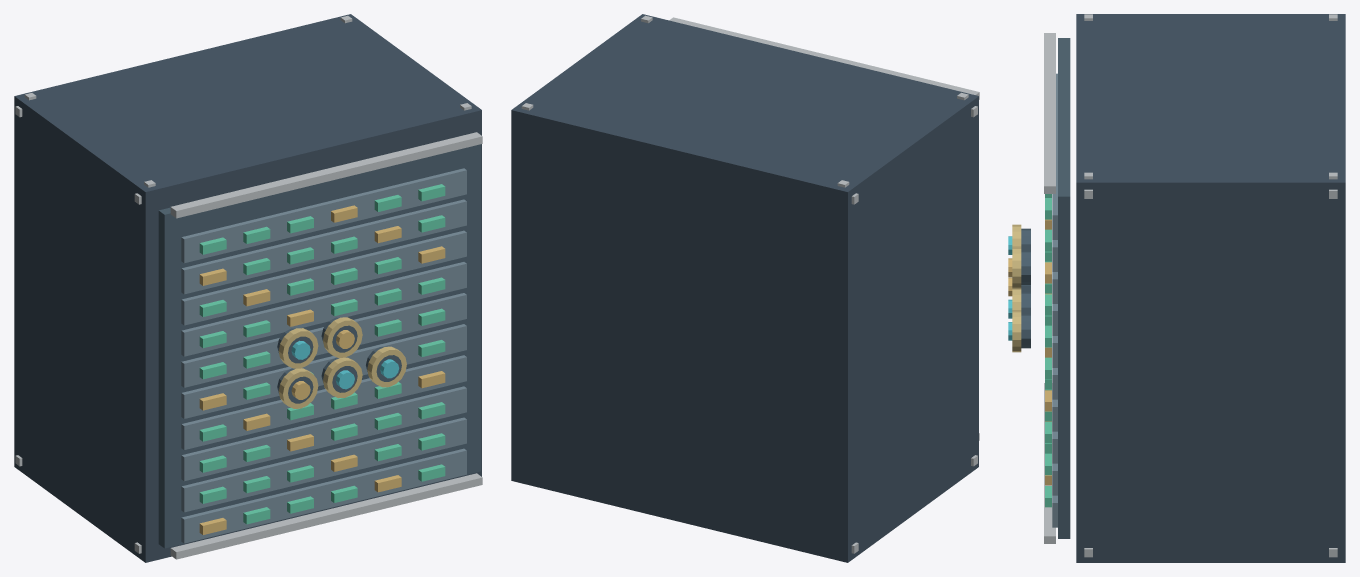
File: 58_L81_Regulated5VControlSupply.glb
3 renders of one model, left to right at view 1: azimuth 30°, elevation 25°; view 2: azimuth 150°, elevation 25°; view 3: azimuth 270°, elevation 25°, orthographic. The views are drawn at different scales.
Parts seen in each view (by area): view 1: Regulated5VControlSupply_Node_0000, Regulated5VControlSupply_Node_0009, Regulated5VControlSupply_Node_0017, Regulated5VControlSupply_Node_0066, Regulated5VControlSupply_Node_0073, Regulated5VControlSupply_Node_0010, Regulated5VControlSupply_Node_0059, Regulated5VControlSupply_Node_0024, Regulated5VControlSupply_Node_0052, Regulated5VControlSupply_Node_0031, Regulated5VControlSupply_Node_0045, Regulated5VControlSupply_Node_0038 (+7 smaller); view 2: Regulated5VControlSupply_Node_0000, Regulated5VControlSupply_Node_0081; view 3: Regulated5VControlSupply_Node_0000, Regulated5VControlSupply_Node_0009, Regulated5VControlSupply_Node_0081, Regulated5VControlSupply_Node_0080, Regulated5VControlSupply_Node_0073, Regulated5VControlSupply_Node_0097.
Boxes of the visible parts, <box> form: Regulated5VControlSupply_Node_0000: <box>14,14,481,562</box>; Regulated5VControlSupply_Node_0009: <box>158,144,480,548</box>; Regulated5VControlSupply_Node_0017: <box>181,417,466,512</box>; Regulated5VControlSupply_Node_0066: <box>181,199,466,294</box>; Regulated5VControlSupply_Node_0073: <box>181,168,466,263</box>; Regulated5VControlSupply_Node_0010: <box>181,448,466,543</box>; Regulated5VControlSupply_Node_0059: <box>181,230,466,325</box>; Regulated5VControlSupply_Node_0024: <box>181,386,466,481</box>; Regulated5VControlSupply_Node_0052: <box>181,262,466,356</box>; Regulated5VControlSupply_Node_0031: <box>181,355,466,449</box>; Regulated5VControlSupply_Node_0045: <box>181,293,466,387</box>; Regulated5VControlSupply_Node_0038: <box>181,324,466,418</box>; Regulated5VControlSupply_Node_0000: <box>511,14,978,562</box>; Regulated5VControlSupply_Node_0081: <box>669,17,979,99</box>; Regulated5VControlSupply_Node_0000: <box>1076,14,1345,562</box>; Regulated5VControlSupply_Node_0009: <box>1058,38,1070,538</box>; Regulated5VControlSupply_Node_0081: <box>1044,33,1055,193</box>; Regulated5VControlSupply_Node_0080: <box>1044,383,1055,543</box>; Regulated5VControlSupply_Node_0073: <box>1052,73,1057,239</box>; Regulated5VControlSupply_Node_0097: <box>1012,310,1021,352</box>.
Bounding box in the file's own units: 1.16 × 1.22 × 0.9645.
